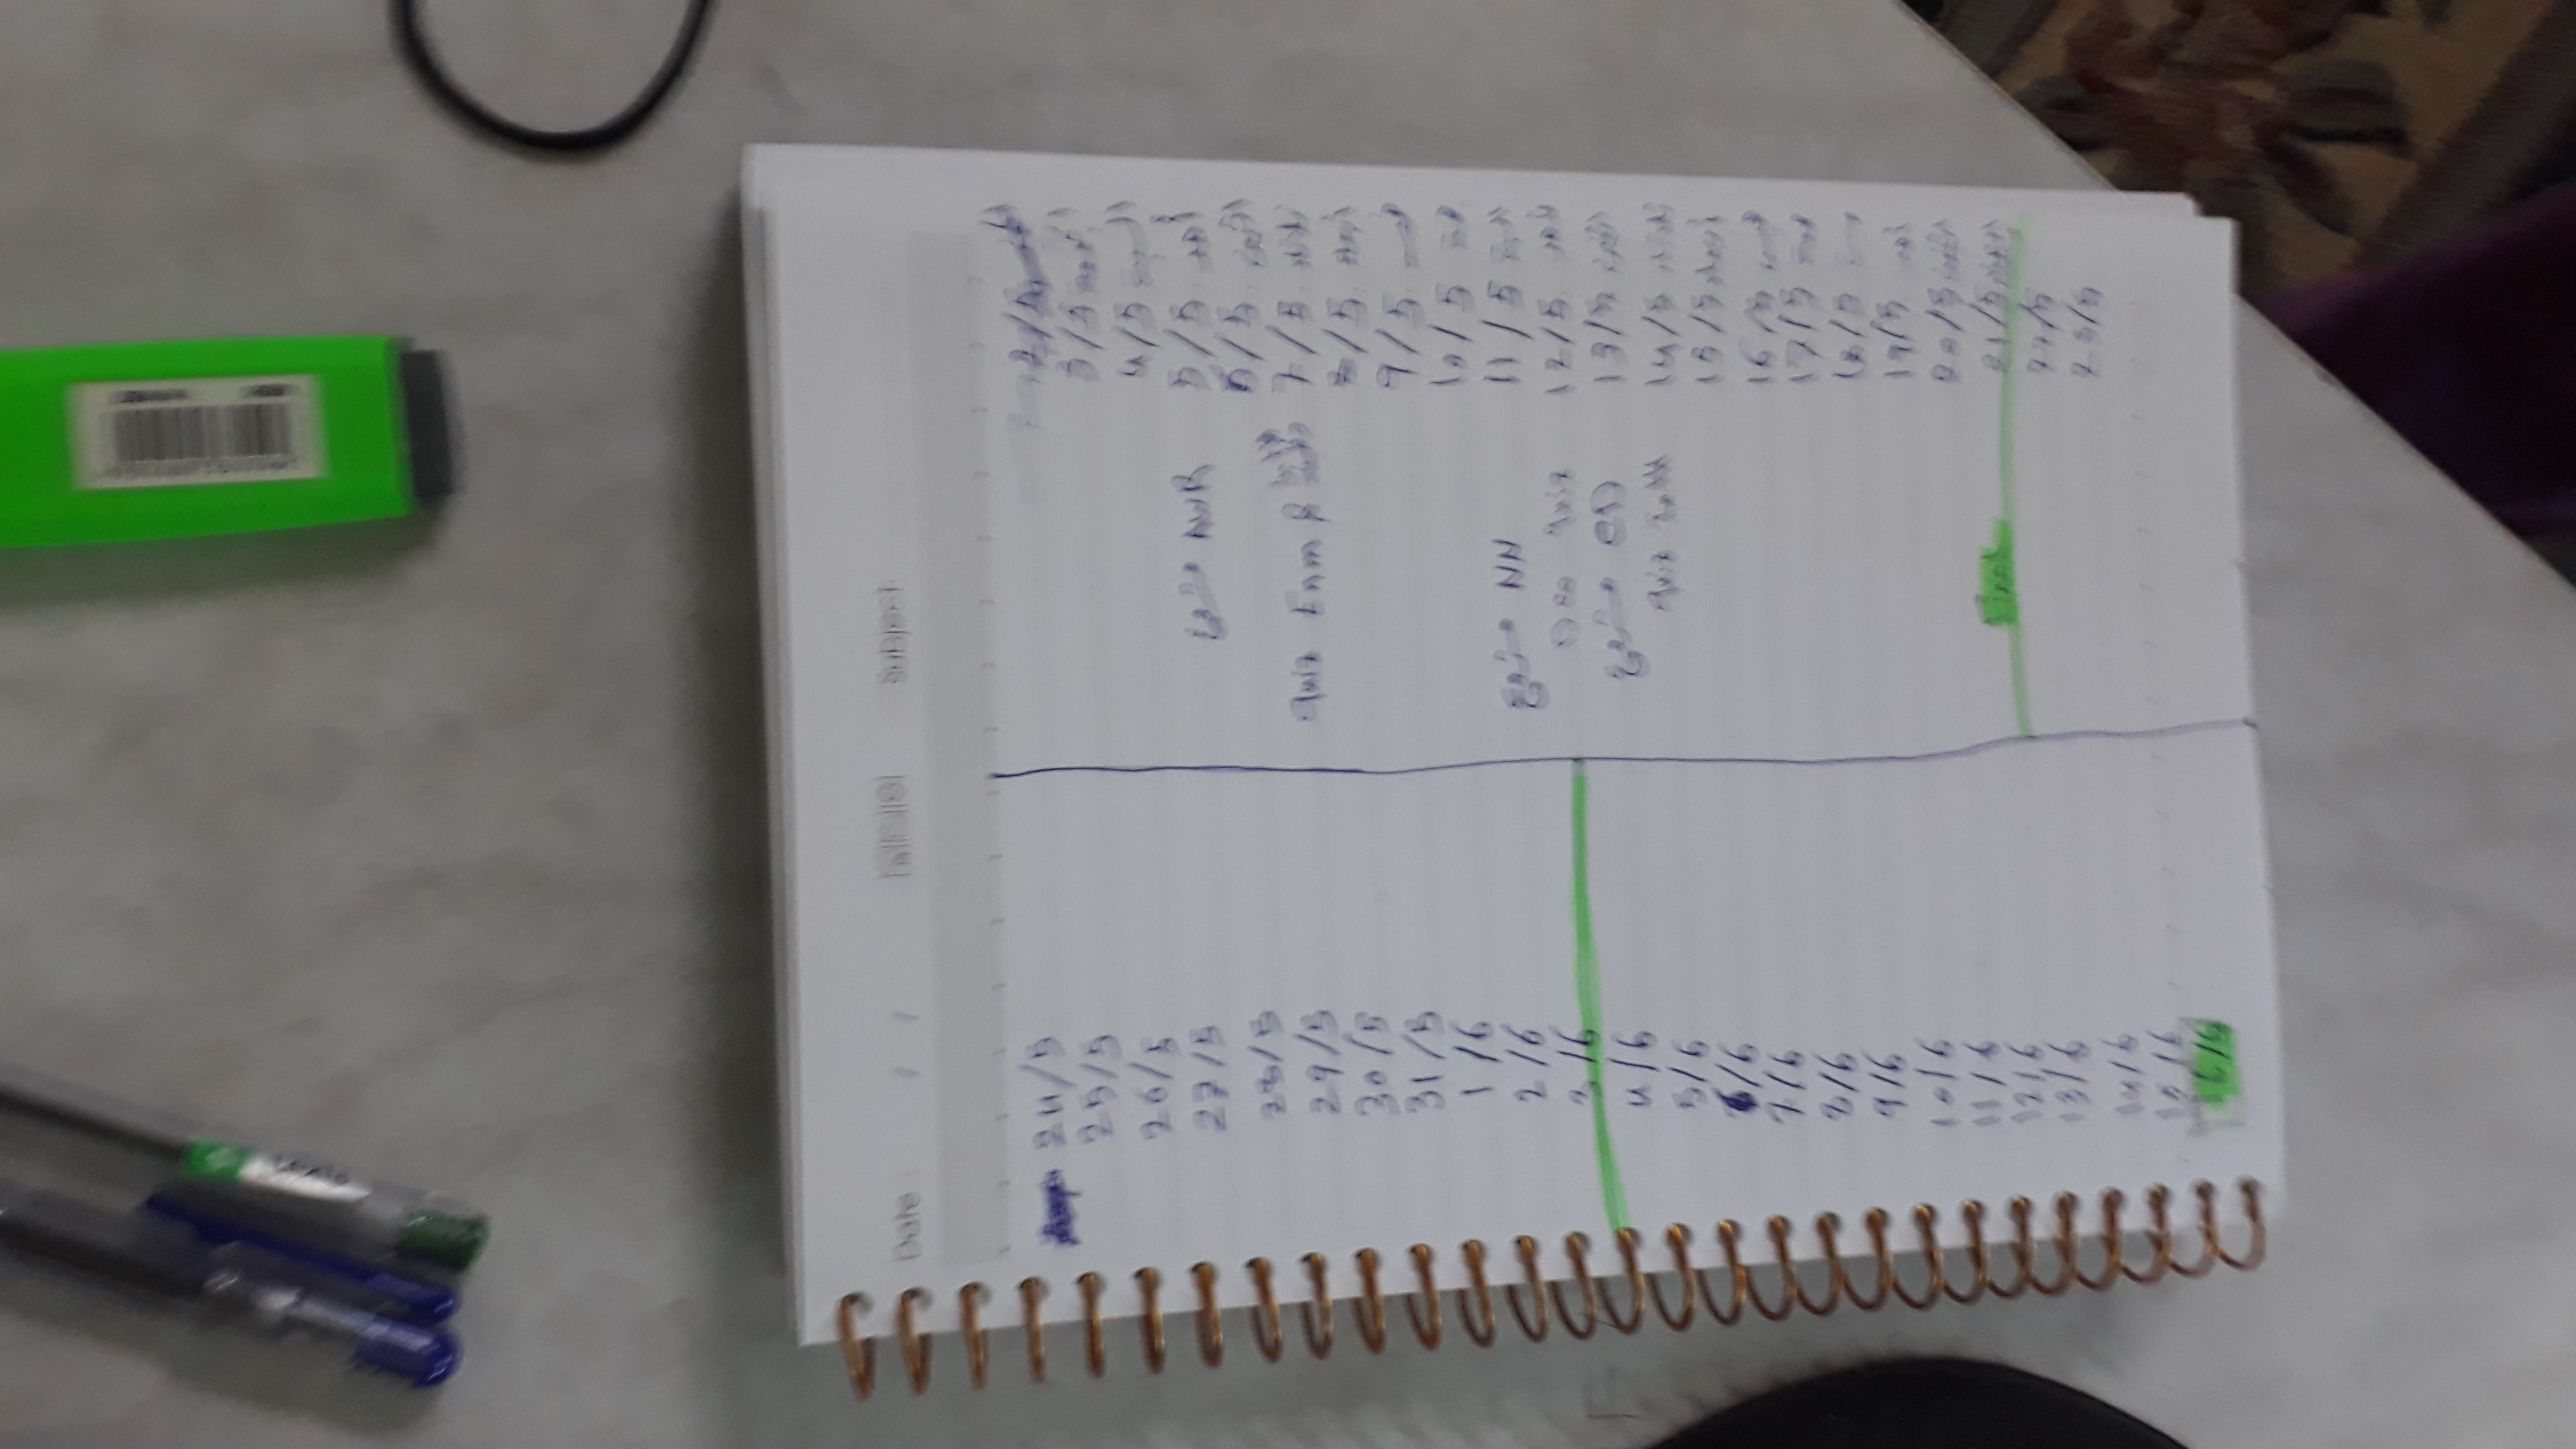dftar: (729, 163, 2273, 1368)
